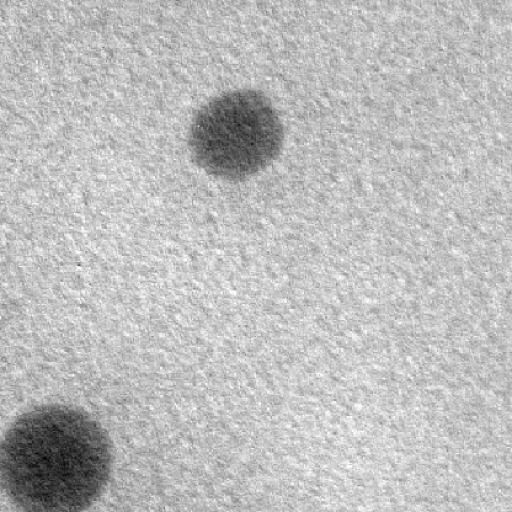Nanoparticles: (0, 401, 115, 512), (186, 87, 286, 180)
